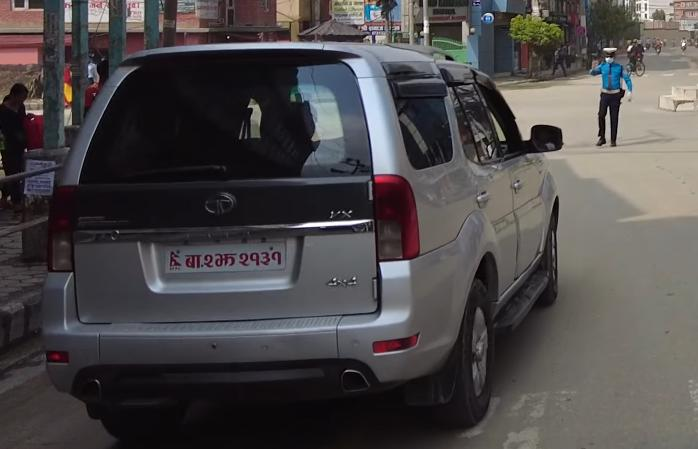SUV: (35, 38, 567, 449)
